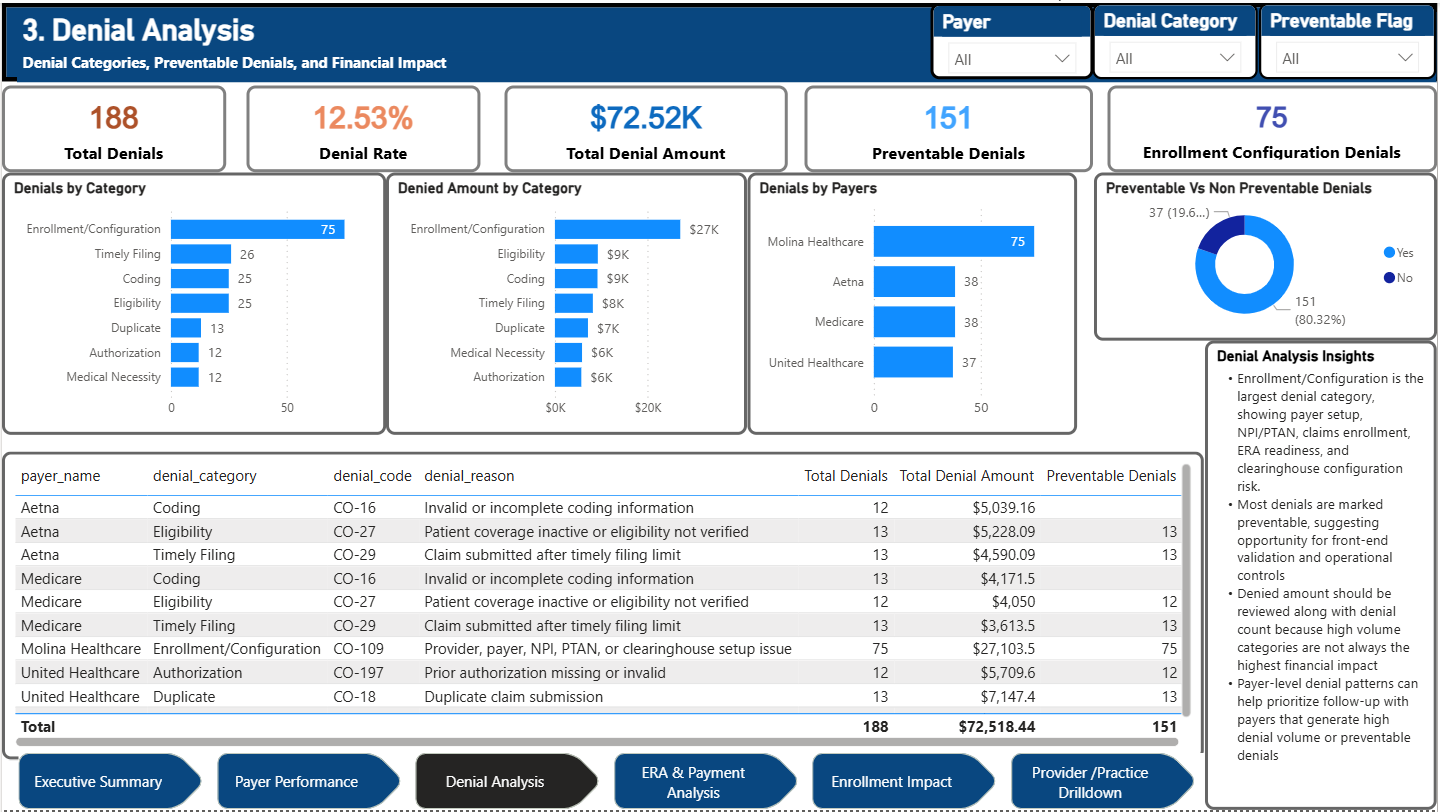

This screenshot's page, from the dashboard's own definition file:
{"tool":"powerbi","page":{"name":"Denial Analysis ","canvas":[1280,720],"ordinal":2},"visuals":[{"type":"shape","box":[0,0,1280,70],"z":0},{"type":"textbox","title":"3. Denial Analysis","box":[13.2,7.6,1266.2,62.4],"z":1},{"type":"slicer","title":"Payer","fields":{"Values":["dim_payer.payer_name"]},"box":[827.7,0,145.5,68],"z":2},{"type":"slicer","title":"Denial Category","fields":{"Values":["fact_denials.denial_category"]},"box":[973.2,0,147.4,68],"z":3},{"type":"slicer","title":"Preventable Flag","fields":{"Values":["fact_denials.preventable_flag"]},"box":[1121.1,0,157.9,67.9],"z":4},{"type":"card","fields":{"Values":["_Measures.Total Denials"]},"box":[0,74.2,199.9,77.2],"z":5},{"type":"card","fields":{"Values":["_Measures.Denial Rate"]},"box":[218,74.2,209,77.2],"z":6},{"type":"card","fields":{"Values":["_Measures.Total Denial Amount"]},"box":[448.2,74.2,252.9,77.2],"z":7},{"type":"card","fields":{"Values":["_Measures.Preventable Denials"]},"box":[716.2,74.2,257.4,77.2],"z":8},{"type":"card","fields":{"Values":["_Measures.Enrollment Configuration Denials"]},"box":[985.7,74.2,293.8,77.2],"z":9},{"type":"clusteredBarChart","title":"Denials by Category","fields":{"Category":["fact_denials.denial_category"],"Y":["_Measures.Total Denials"]},"box":[0,163.5,342.2,234.7],"z":10},{"type":"clusteredBarChart","title":"Denied Amount by Category","fields":{"Category":["fact_denials.denial_category"],"Y":["_Measures.Total Denial Amount"]},"box":[342.2,163.5,322.5,234.7],"z":11},{"type":"donutChart","title":"Preventable Vs Non Preventable  Denials ","fields":{"Category":["fact_denials.preventable_flag"],"Y":["_Measures.Total Denials"]},"box":[664.7,163.5,321,234.7],"z":12},{"type":"clusteredBarChart","title":"Denials by Payers","fields":{"Category":["dim_payer.payer_name"],"Y":["_Measures.Total Denials"]},"box":[985.7,163.5,293.8,234.7],"z":13},{"type":"tableEx","fields":{"Values":["dim_payer.payer_name","fact_denials.denial_category","fact_denials.denial_code","fact_denials.denial_reason","_Measures.Total Denials","_Measures.Total Denial Amount","_Measures.Preventable Denials"]},"box":[13.6,398.2,1072.1,275.6],"z":14},{"type":"textbox","title":"Denial Analysis Insights","box":[1071.5,398.7,207.9,321.3],"z":15},{"type":"pageNavigator","box":[14.2,669.5,1057.9,50.5],"z":16}]}

Visuals, with their boxes in screenshot pixels (x1, y1, x2, y2), scaled from the page's 1280x720 canvas onto the 1440x812 screenshot:
shape: bbox=[0, 0, 1439, 79]
"3. Denial Analysis" textbox: bbox=[15, 9, 1439, 79]
"Payer" slicer: bbox=[931, 0, 1095, 77]
"Denial Category" slicer: bbox=[1095, 0, 1261, 77]
"Preventable Flag" slicer: bbox=[1261, 0, 1439, 77]
card - _Measures.Total Denials: bbox=[0, 84, 225, 171]
card - _Measures.Denial Rate: bbox=[245, 84, 480, 171]
card - _Measures.Total Denial Amount: bbox=[504, 84, 789, 171]
card - _Measures.Preventable Denials: bbox=[806, 84, 1095, 171]
card - _Measures.Enrollment Configuration Denials: bbox=[1109, 84, 1439, 171]
"Denials by Category" clusteredBarChart: bbox=[0, 184, 385, 449]
"Denied Amount by Category" clusteredBarChart: bbox=[385, 184, 748, 449]
"Preventable Vs Non Preventable  Denials " donutChart: bbox=[748, 184, 1109, 449]
"Denials by Payers" clusteredBarChart: bbox=[1109, 184, 1439, 449]
tableEx - dim_payer.payer_name x fact_denials.denial_category: bbox=[15, 449, 1221, 760]
"Denial Analysis Insights" textbox: bbox=[1205, 450, 1439, 811]
pageNavigator: bbox=[16, 755, 1206, 811]
